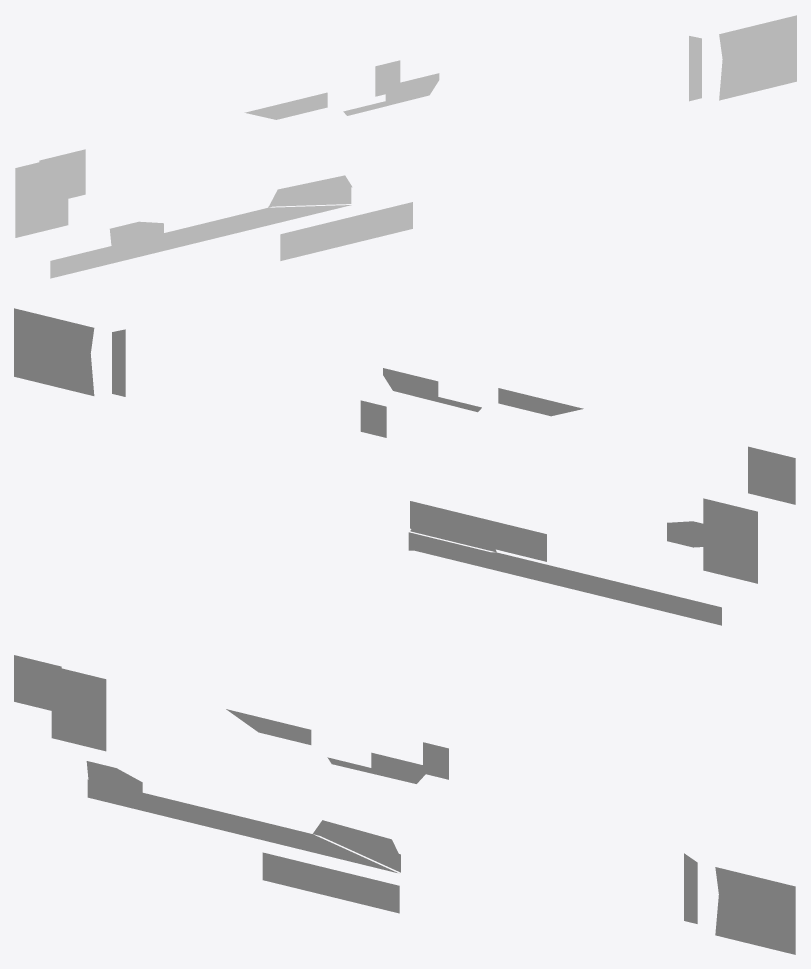
The model's file is Gate_02_Derelict_02_0.glb.
The picture shows the model from 3 angles, top to bottom: view 1: azimuth 30°, elevation 25°; view 2: azimuth 150°, elevation 25°; view 3: azimuth 330°, elevation 25°; orthographic projection. The views are drawn at different scales.
Visible parts, largest first — view 1: Gate_02_Derelict_02_LOD0; view 2: Gate_02_Derelict_02_LOD0; view 3: Gate_02_Derelict_02_LOD0.
Part boxes in pixels (left/top/right/bottom): Gate_02_Derelict_02_LOD0: left=15, top=15, right=796, bottom=278; Gate_02_Derelict_02_LOD0: left=14, top=308, right=795, bottom=625; Gate_02_Derelict_02_LOD0: left=14, top=655, right=795, bottom=954.
Size of what is drawn, in the model's own units: 34.33 by 6.9 by 2.57.
1 material, 1 textured.
